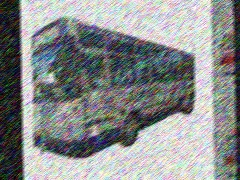bus: (32, 15, 196, 160)
